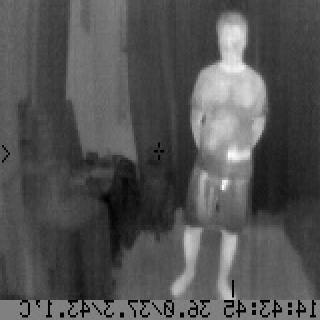Gun: (218, 145, 252, 193)
